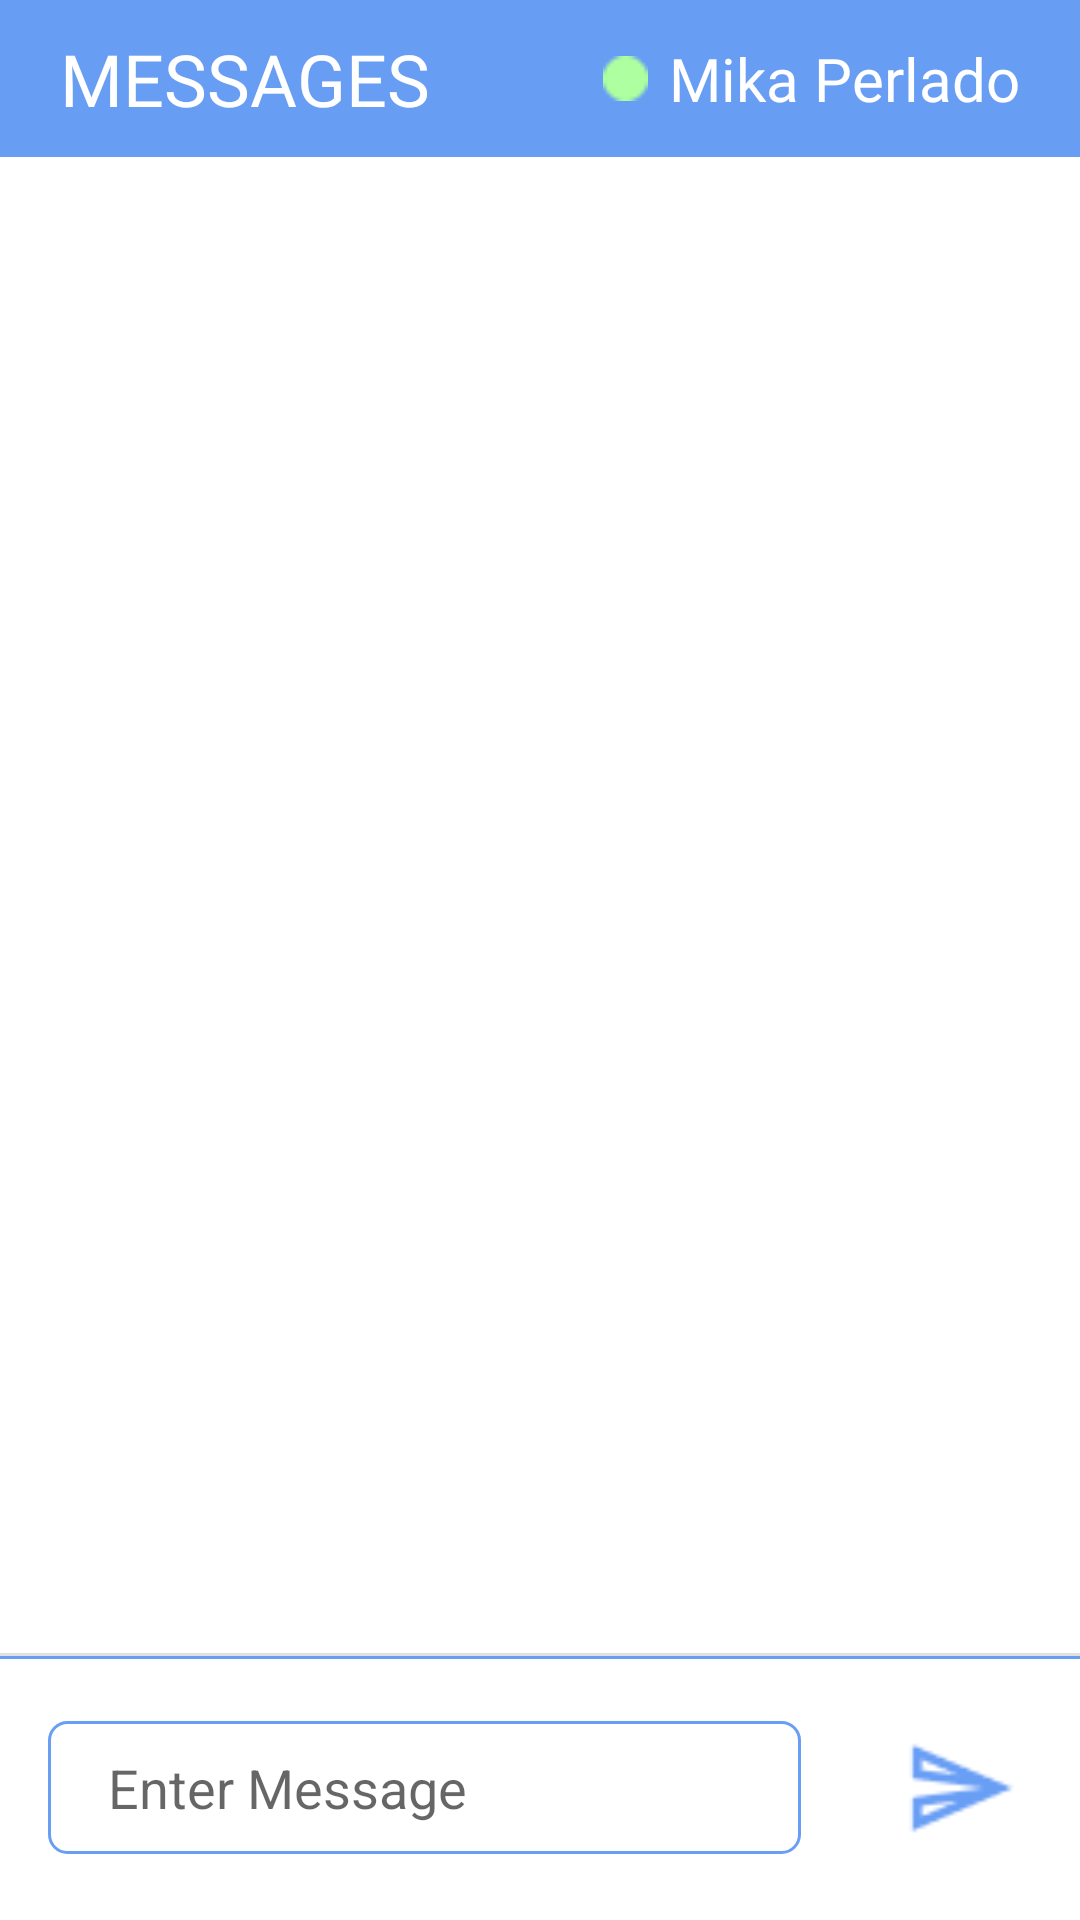

Where icons sit on this 1080 × 1920 app screen, as (x1, y1, x2, y2):
message send: (912, 1744, 1011, 1832)
